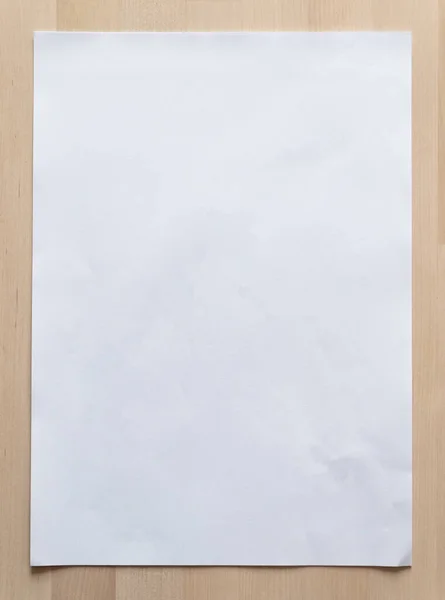page: (35, 32, 411, 566)
